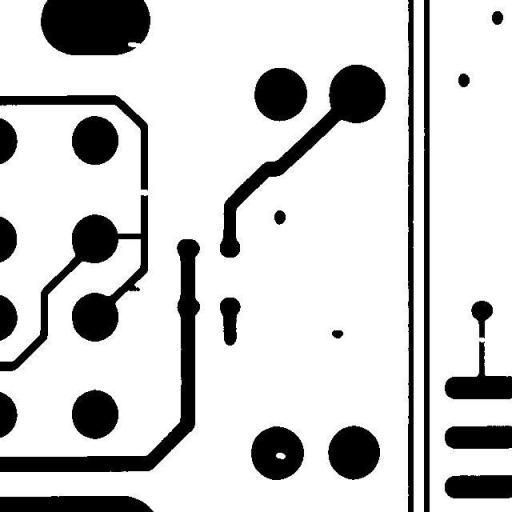copper: (326, 325, 348, 343)
mousebite: (122, 36, 146, 53)
open: (130, 183, 156, 202), (470, 331, 494, 348)
pin-hole: (270, 447, 290, 464)
short: (110, 227, 151, 245)
spur: (116, 278, 146, 298)
